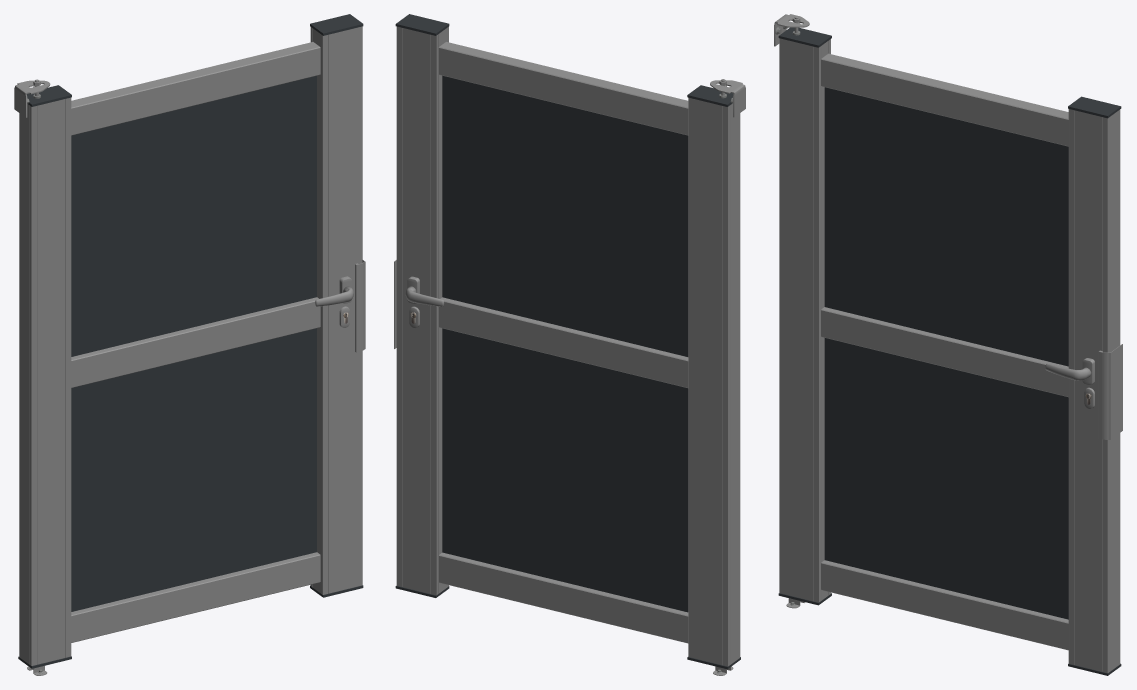
3 renders of one model, left to right at view 1: azimuth 30°, elevation 25°; view 2: azimuth 150°, elevation 25°; view 3: azimuth 330°, elevation 25°, orthographic.
Parts seen in each view (by area): view 1: Box2340, Shape107412643, Shape107412644, Shape107412162, Shape107412163, Shape107412169, Shape107412637, Box2403, Rectangle057, Box2401; view 2: Box2340, Shape107412643, Shape107412644, Shape107412162, Shape107412163, Shape107412169, Box2403, Rectangle057, Box2401; view 3: Box2340, Shape107412644, Shape107412643, Shape107412162, Shape107412163, Shape107412169, Shape107412637, Box2403, Box2401.
Boxes of the visible parts, <box> form: Box2340: <box>71,75,316,611</box>; Shape107412643: <box>19,97,71,665</box>; Shape107412644: <box>310,26,362,594</box>; Shape107412162: <box>71,42,320,135</box>; Shape107412163: <box>71,552,320,642</box>; Shape107412169: <box>71,297,320,387</box>; Shape107412637: <box>355,260,365,352</box>; Box2403: <box>310,14,363,35</box>; Rectangle057: <box>14,80,50,117</box>; Box2401: <box>26,85,71,106</box>; Box2340: <box>442,75,688,612</box>; Shape107412643: <box>688,97,740,666</box>; Shape107412644: <box>396,26,448,595</box>; Shape107412162: <box>438,42,688,135</box>; Shape107412163: <box>438,552,688,643</box>; Shape107412169: <box>438,297,688,387</box>; Box2403: <box>395,14,449,35</box>; Rectangle057: <box>710,80,745,117</box>; Box2401: <box>687,85,733,106</box>; Box2340: <box>824,87,1068,619</box>; Shape107412644: <box>1068,109,1120,672</box>; Shape107412643: <box>779,38,830,602</box>; Shape107412162: <box>821,53,1068,146</box>; Shape107412163: <box>821,560,1068,650</box>; Shape107412169: <box>821,307,1068,397</box>; Shape107412637: <box>1098,344,1122,439</box>; Box2403: <box>1068,96,1121,118</box>; Box2401: <box>778,27,831,47</box>.
Bounding box in the file's own units: 1014 × 1688 × 171.
Materials: 8 (4 with a texture image).
